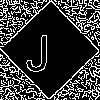J: (25, 25, 51, 72)
